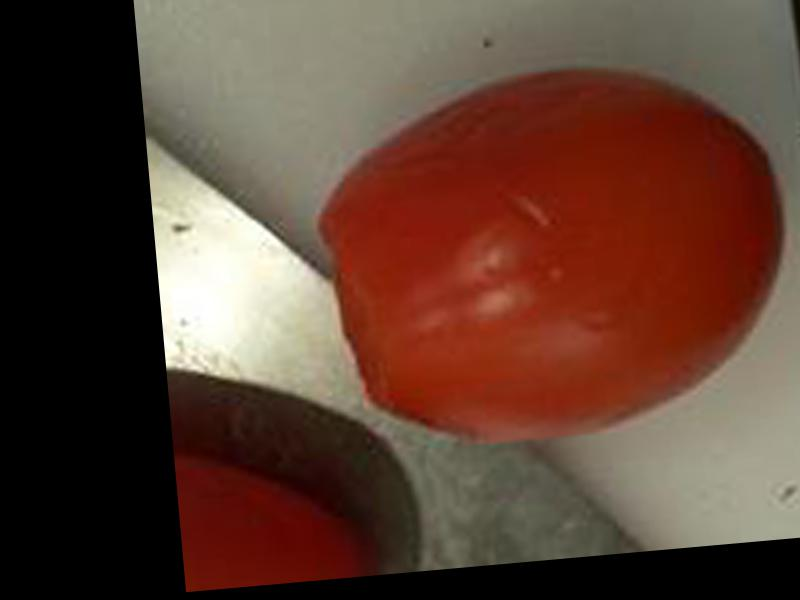Tomato: (308, 51, 800, 459)
